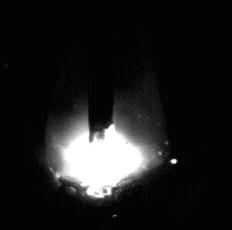arame: (89, 0, 114, 142)
poca: (46, 0, 169, 230)
